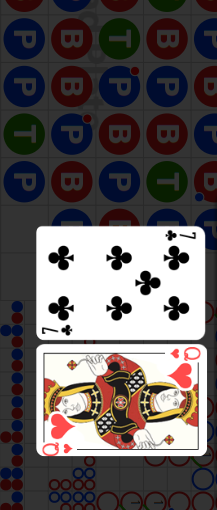7C: (41, 322, 75, 337)
